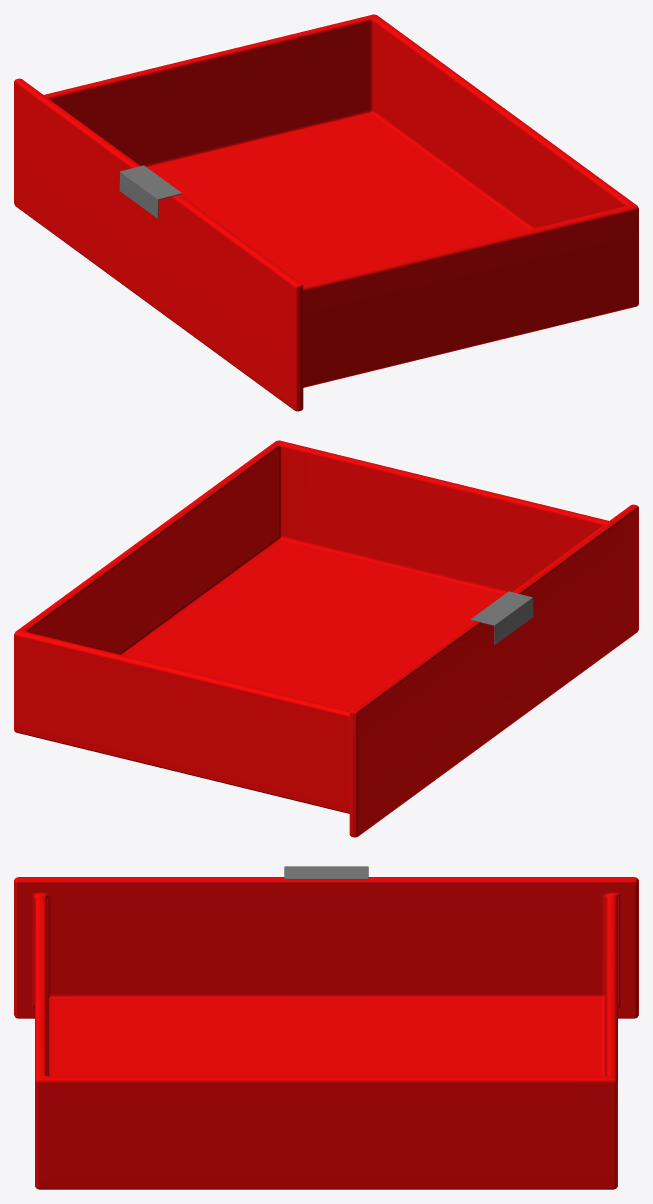
File: SM_Ki_Sink_Drawer_01.fbx
The picture shows the model from 3 angles, top to bottom: view 1: azimuth 30°, elevation 25°; view 2: azimuth 150°, elevation 25°; view 3: azimuth 270°, elevation 25°; orthographic projection. The views are drawn at different scales.
Parts seen in each view (by area): view 1: Kitchen_Door_Corner_01.002; view 2: Kitchen_Door_Corner_01.002; view 3: Kitchen_Door_Corner_01.002.
Boxes of the visible parts, x1,y1,x2,y2 form: Kitchen_Door_Corner_01.002: [14, 14, 638, 411]; Kitchen_Door_Corner_01.002: [14, 440, 638, 837]; Kitchen_Door_Corner_01.002: [14, 866, 638, 1189].
Bounding box in the file's own units: 50.7 × 16.86 × 67.47.
